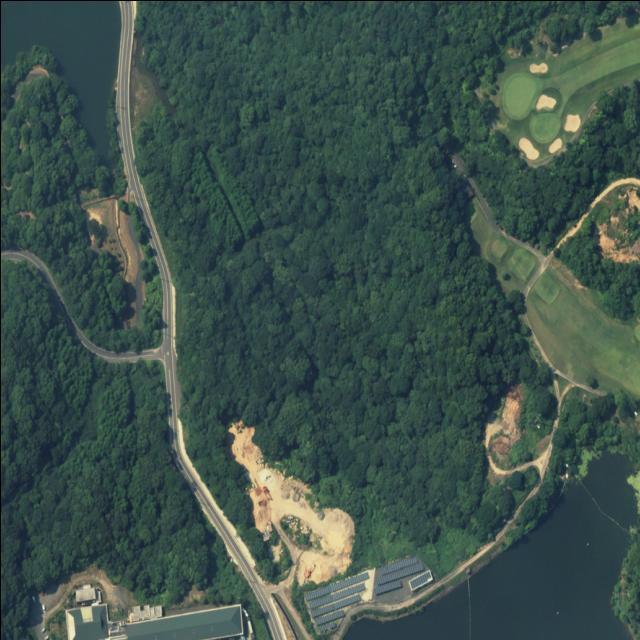landslide: (229, 422, 353, 585), (485, 384, 524, 461), (597, 222, 640, 261)
